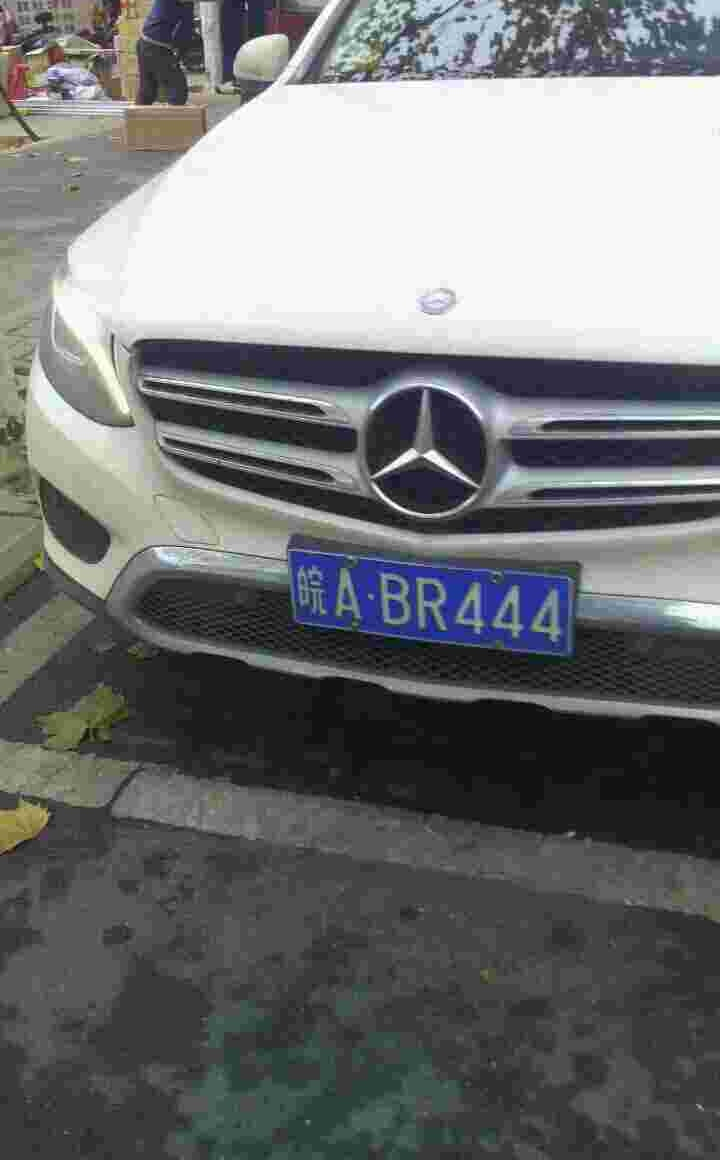license_plate: (280, 547, 569, 667)
